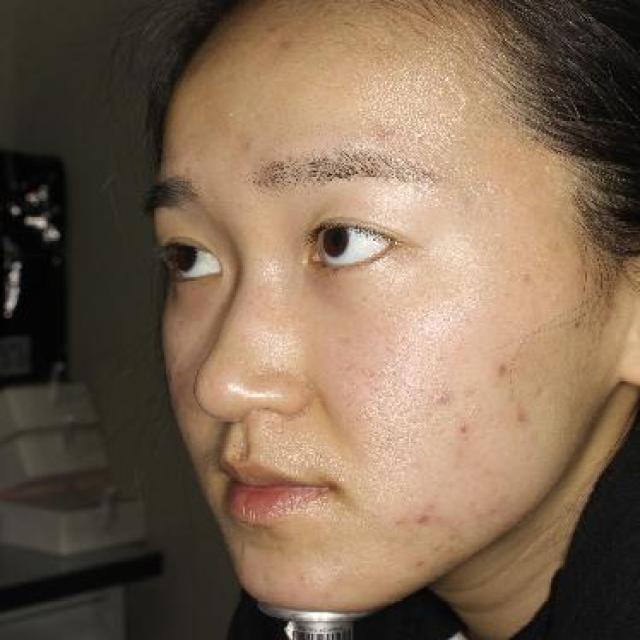dark spot: (489, 363, 510, 377), (508, 412, 529, 425)
papules: (430, 388, 455, 409), (452, 418, 474, 438), (412, 508, 432, 528)
whiteheads: (383, 290, 397, 302)
